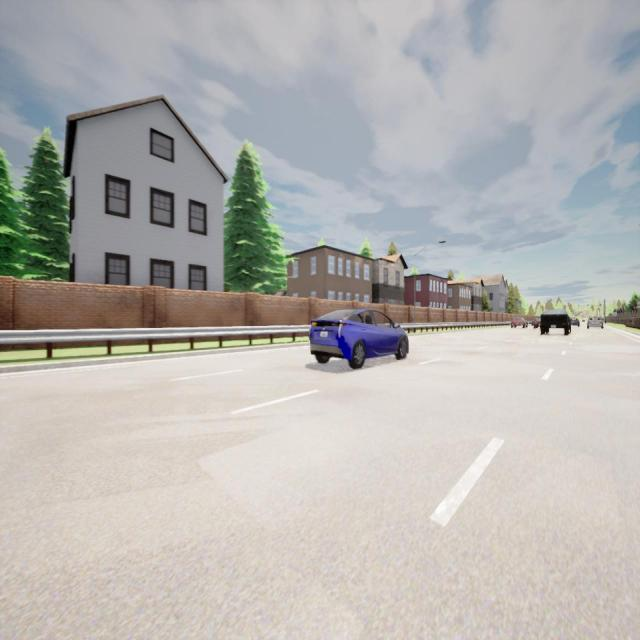Traffic_Signs: (612, 312, 616, 316)
Vehicle: (310, 307, 408, 368), (541, 310, 571, 335), (587, 316, 604, 329), (511, 316, 528, 328), (532, 317, 541, 329), (570, 317, 580, 326)
